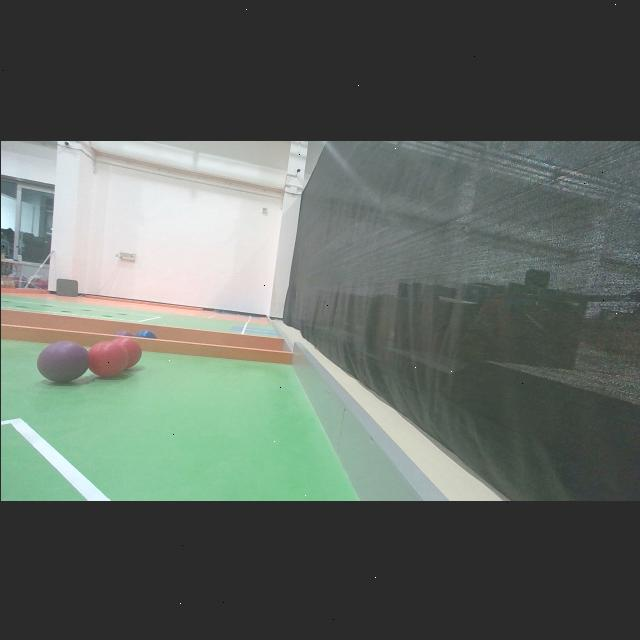P: (36, 341, 88, 382)
R: (86, 340, 128, 376)
